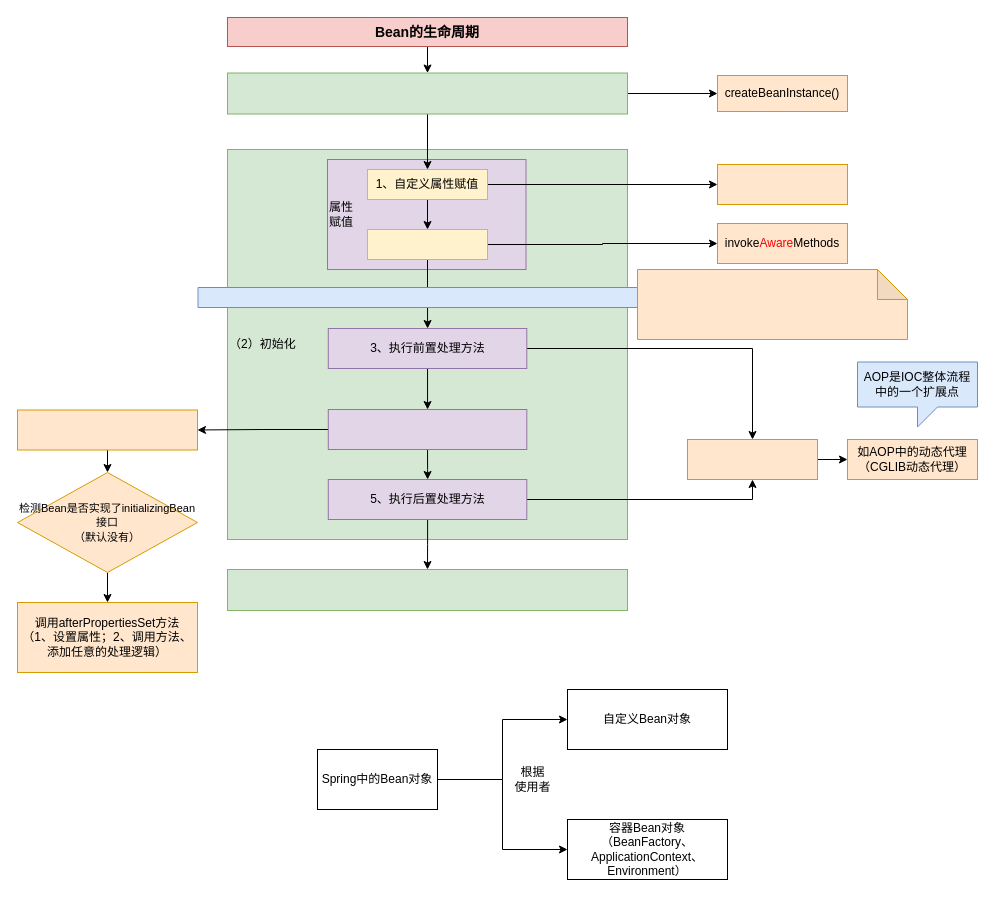
Image size: 995x897. Some labels were removed from this diagram. Here are the shapes that lost their labels. From the top down, the centre of each, then its label:
(427,93): （1）实例化：在堆空间中申请空间，对象的属性值一般是默认值，反射创建对象的过程
(782,184): populateBean set方法完成赋值
(427,244): 2、容器属性对象赋值
(772,304): 执行到此步骤，对象的创建和属性的赋值都完成了，那么此时对象是否可以直接拿来使用了？ 理论上是可以的，但是Spring要考虑扩展性。
(107,429): invokeInitMethods
(427,429): 4、执行初始化方法
(752,459): BeanPostProcessor
(427,589): （3）销毁Bean
